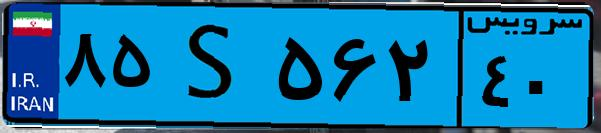0: (525, 38, 570, 115)
2: (385, 28, 445, 110)
4: (475, 38, 525, 113)
5: (270, 28, 330, 110), (110, 28, 158, 98)
6: (330, 28, 385, 110)
8: (57, 26, 110, 100)
S: (158, 12, 270, 120)
